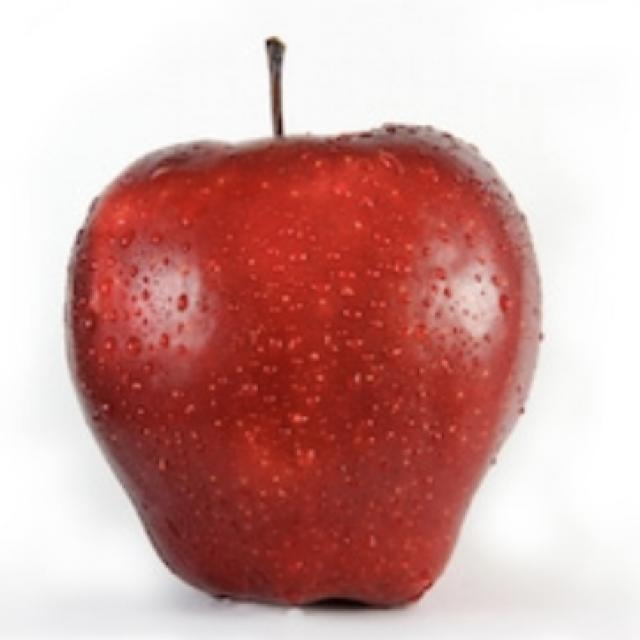Fresh Apple: (94, 125, 534, 640)
